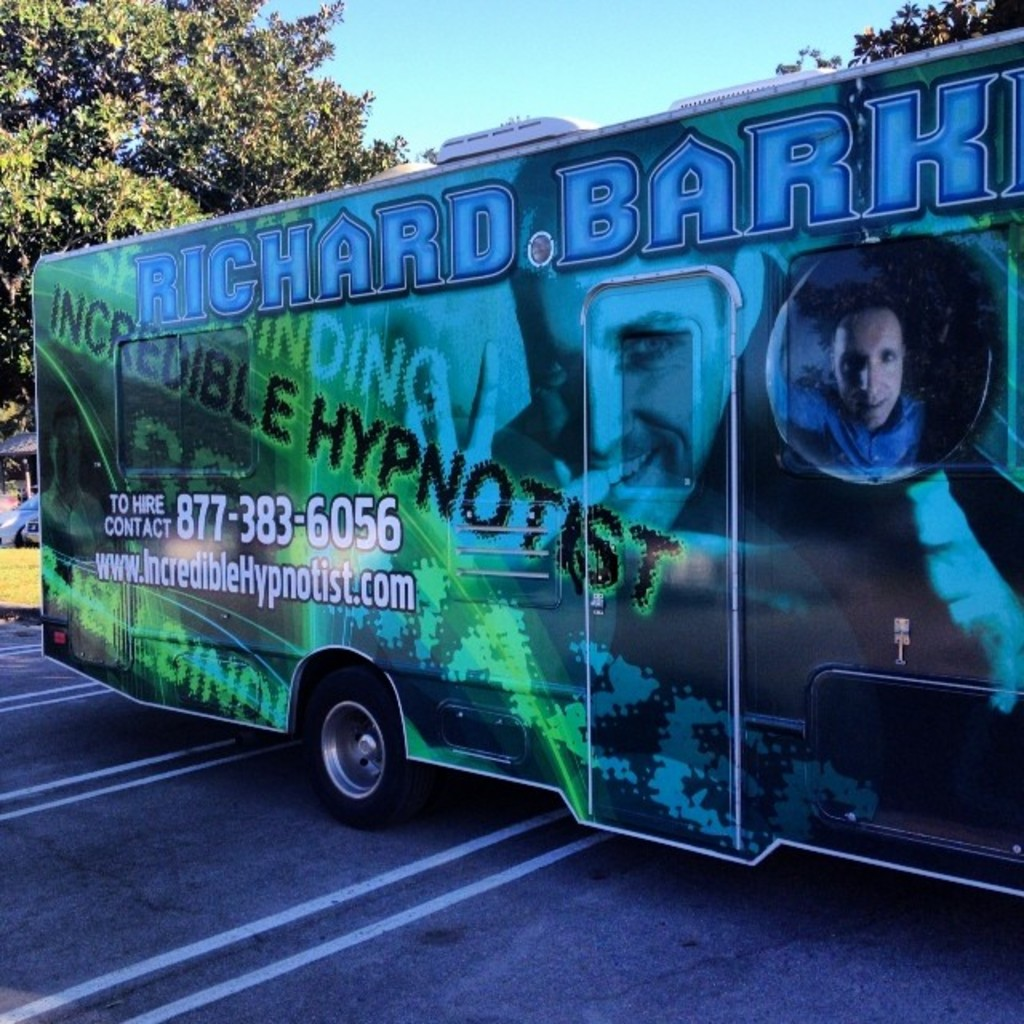Car: (0, 496, 44, 622)
